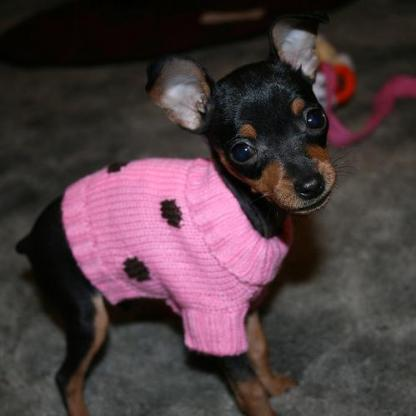miniature_pinscher: (9, 14, 338, 413)
